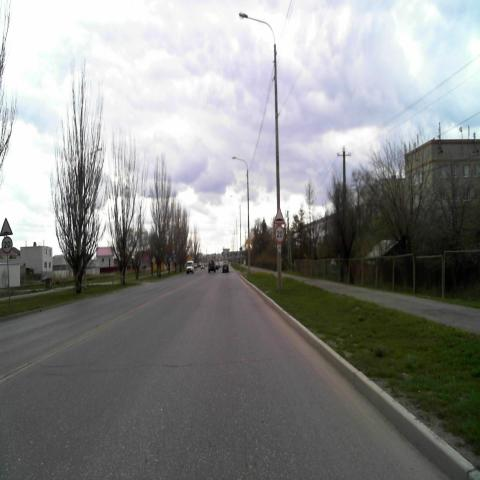3_24: (2, 237, 12, 253)
